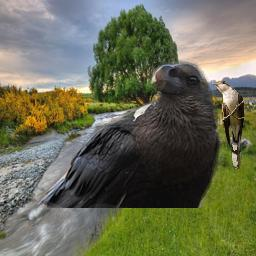Crow: (33, 59, 224, 208)
Cuckoo: (212, 81, 245, 169)
